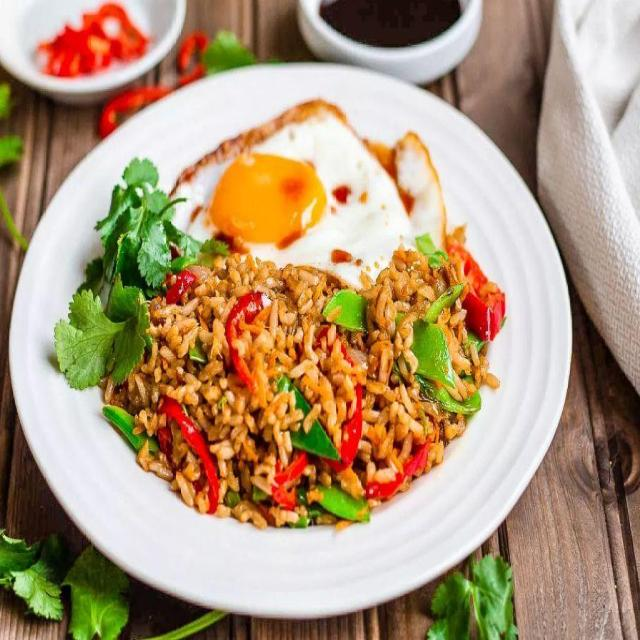Nasi Goreng: (110, 141, 492, 524)
